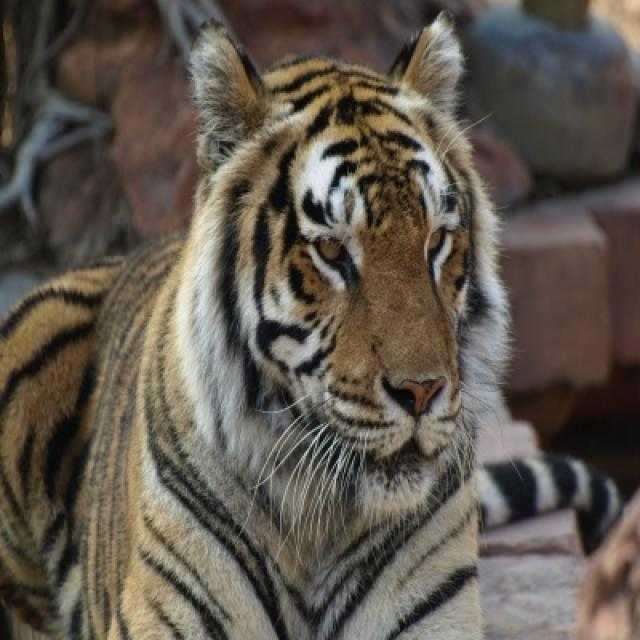Tiger: (0, 23, 624, 633)
